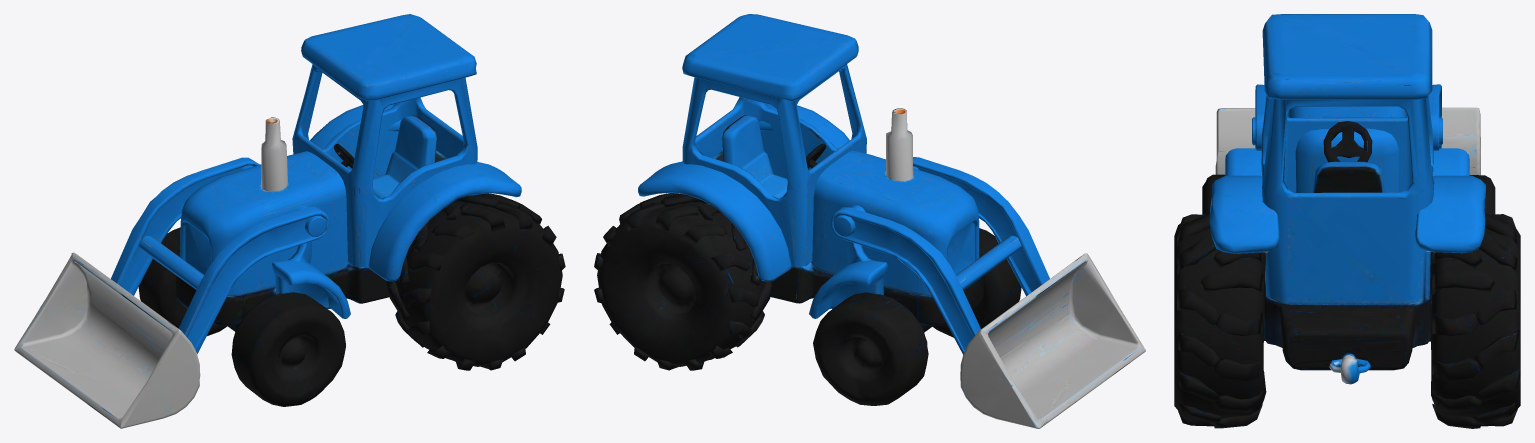
Rendered from veh-loader.glb.
3 views of the same model, side by side, from view 1: azimuth 30°, elevation 25°; view 2: azimuth 150°, elevation 25°; view 3: azimuth 270°, elevation 25° (orthographic). The views are drawn at different scales.
Size of the model in its own units: 1.68 by 1 by 0.9018.
Materials: 1 (1 with a texture image).
